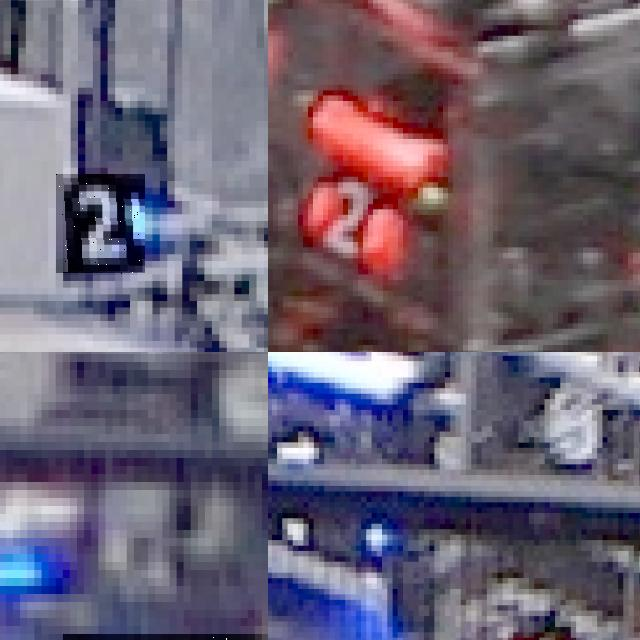B2: (56, 174, 145, 274)
R2: (300, 152, 400, 272)
